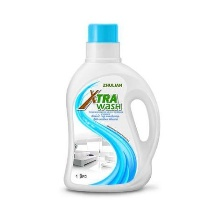cleaning_solution: (59, 19, 164, 197)
